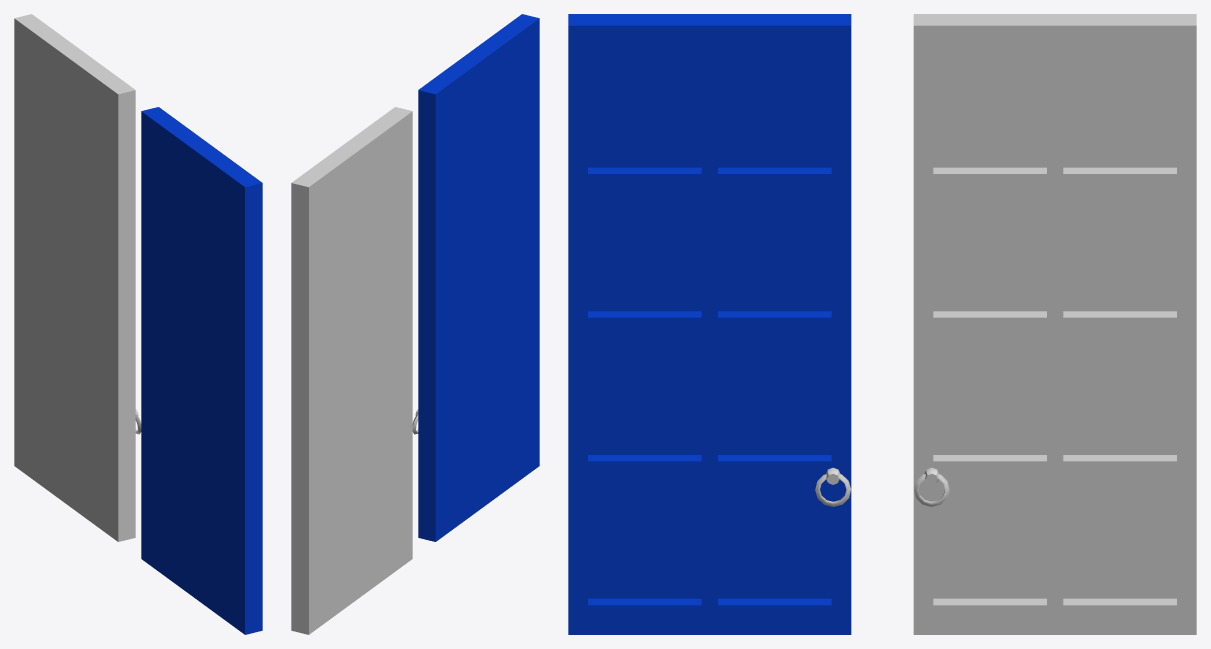
The model's file is kapılar edited.fbx.
3 renders of one model, left to right at view 1: azimuth 30°, elevation 25°; view 2: azimuth 150°, elevation 25°; view 3: azimuth 270°, elevation 25°, orthographic. The views are drawn at different scales.
Visible parts, largest first — view 1: Circle.005, Circle.001; view 2: Circle.005, Circle.001; view 3: Circle.005, Circle.001.
Part boxes in pixels (box(x1,y1,x2,y2)): Circle.005: box(135, 107, 262, 634); Circle.001: box(14, 14, 135, 541); Circle.005: box(412, 14, 539, 541); Circle.001: box(291, 107, 412, 634); Circle.005: box(568, 14, 949, 634); Circle.001: box(913, 14, 1196, 634).
Size of the model in its own units: 57.23 by 942 by 880.
